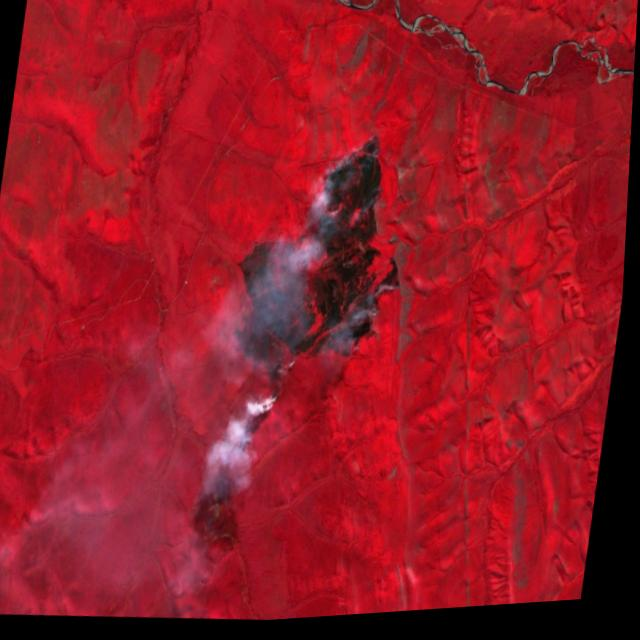fire: (219, 125, 425, 435)
